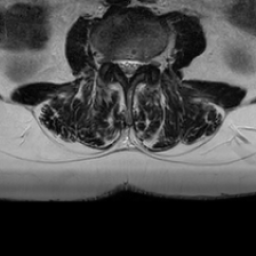CCS_normal: (124, 52, 130, 86)
LFS_severe_stenosis: (141, 51, 149, 73)
LLS_normal: (130, 53, 140, 80)
RFS_severe_stenosis: (107, 50, 115, 72)
RLS_normal: (115, 52, 124, 79)
